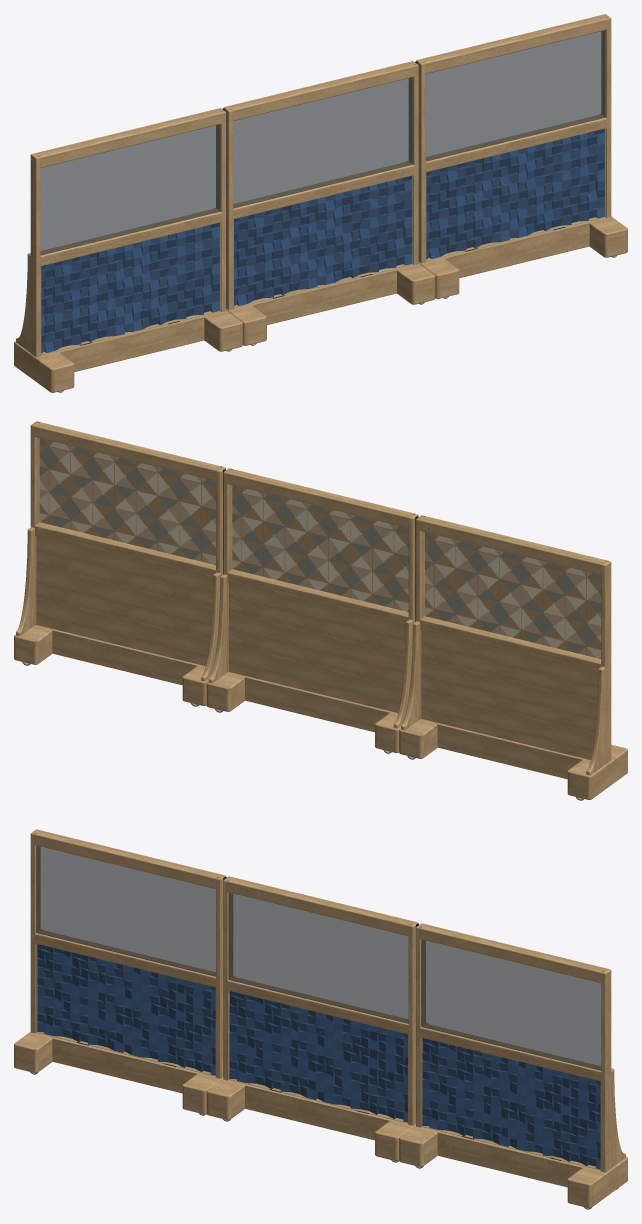
Rendered from v10-linen-marquetry-wheat-three.glb.
3 renders of one model, top to bottom at view 1: azimuth 30°, elevation 25°; view 2: azimuth 150°, elevation 25°; view 3: azimuth 330°, elevation 25°, orthographic.
Visible parts, largest first — view 1: Left Wood, Left Linen Marquetry reverse, Linen Marquetry reverse, Right Linen Marquetry reverse, Cover glass, Right Navy Everwood relief, Left Navy Everwood relief, Navy Everwood relief, Right Cover glass, Left Cover glass, Right Wood, Wood; view 2: Left Wood, Wood, Right Wood, Linen Marquetry print, Right Linen Marquetry print, Left Linen Marquetry print; view 3: Right Wood, Linen Marquetry reverse, Right Linen Marquetry reverse, Left Linen Marquetry reverse, Cover glass, Left Navy Everwood relief, Right Navy Everwood relief, Navy Everwood relief, Right Cover glass, Left Cover glass, Left Wood, Wood.
Part boxes in pixels (box(x1,y1,x2,y2)): Left Wood: box(14, 108, 242, 392); Left Linen Marquetry reverse: box(40, 124, 220, 255); Linen Marquetry reverse: box(233, 77, 413, 208); Right Linen Marquetry reverse: box(426, 30, 605, 161); Cover glass: box(234, 176, 412, 306); Right Navy Everwood relief: box(426, 128, 604, 258); Left Navy Everwood relief: box(41, 223, 219, 352); Navy Everwood relief: box(234, 175, 412, 305); Right Cover glass: box(427, 129, 604, 259); Left Cover glass: box(42, 223, 219, 353); Right Wood: box(416, 14, 627, 298); Wood: box(223, 61, 435, 345); Left Wood: box(399, 515, 627, 799); Wood: box(206, 468, 418, 752); Right Wood: box(14, 421, 225, 705); Linen Marquetry print: box(232, 485, 408, 611); Right Linen Marquetry print: box(39, 438, 215, 564); Left Linen Marquetry print: box(425, 532, 601, 658); Right Wood: box(399, 923, 627, 1207); Linen Marquetry reverse: box(228, 892, 408, 1023); Right Linen Marquetry reverse: box(421, 940, 601, 1070); Left Linen Marquetry reverse: box(36, 846, 215, 976); Cover glass: box(229, 991, 407, 1122); Left Navy Everwood relief: box(37, 944, 215, 1075); Right Navy Everwood relief: box(422, 1038, 600, 1169); Navy Everwood relief: box(229, 991, 407, 1122); Right Cover glass: box(422, 1038, 599, 1169); Left Cover glass: box(37, 944, 214, 1075); Left Wood: box(14, 829, 225, 1114); Wood: box(206, 876, 418, 1161).
Bounding box in the file's own units: 5.03 × 1.91 × 0.5842.
10 materials, 2 textured.
